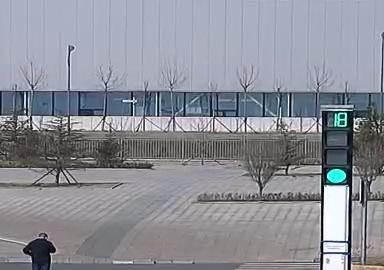green: (322, 167, 346, 183)
greentime: (331, 112, 350, 128)
